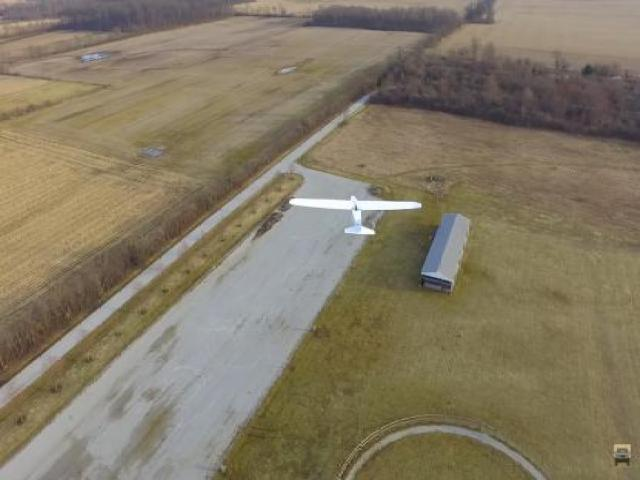uav: (284, 184, 428, 244)
